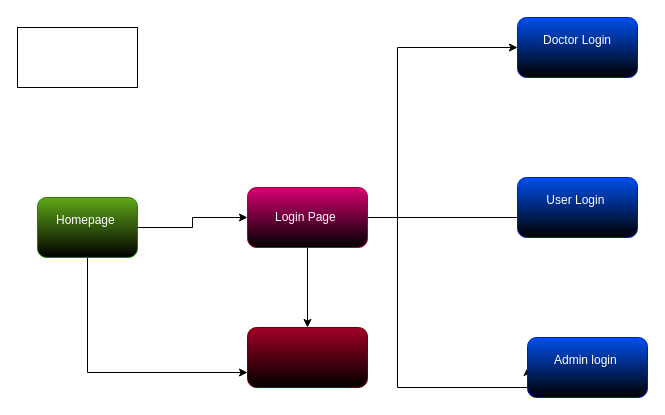
Image size: 665x415. Some labels were removed from this diagram. Each missing label, with the centre of its shape:
Sign Up Page: point 307,357
User Login page: point 77,57
